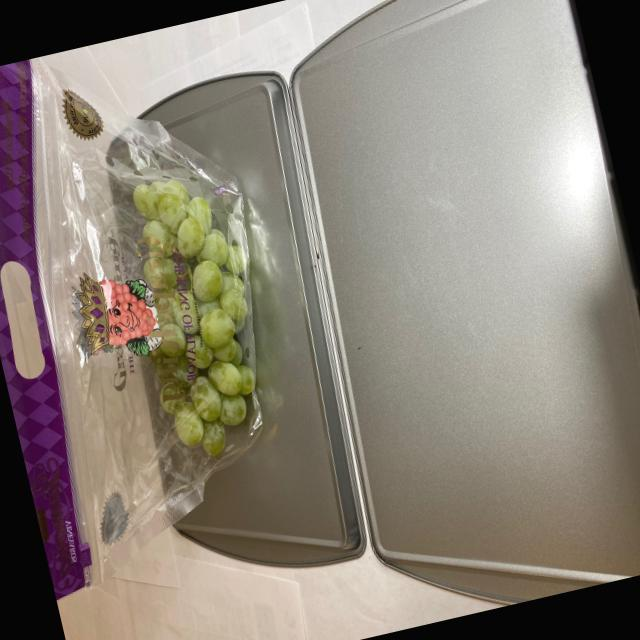grapes: (102, 156, 300, 486)
